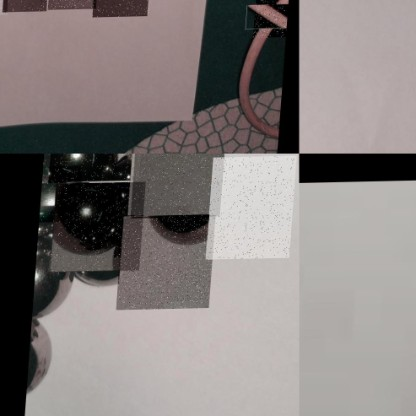ironball: (51, 181, 123, 249), (34, 249, 73, 319), (48, 153, 142, 182), (40, 165, 82, 221), (28, 320, 59, 389), (149, 217, 208, 245), (256, 0, 291, 38), (94, 0, 152, 17), (5, 0, 51, 11)
